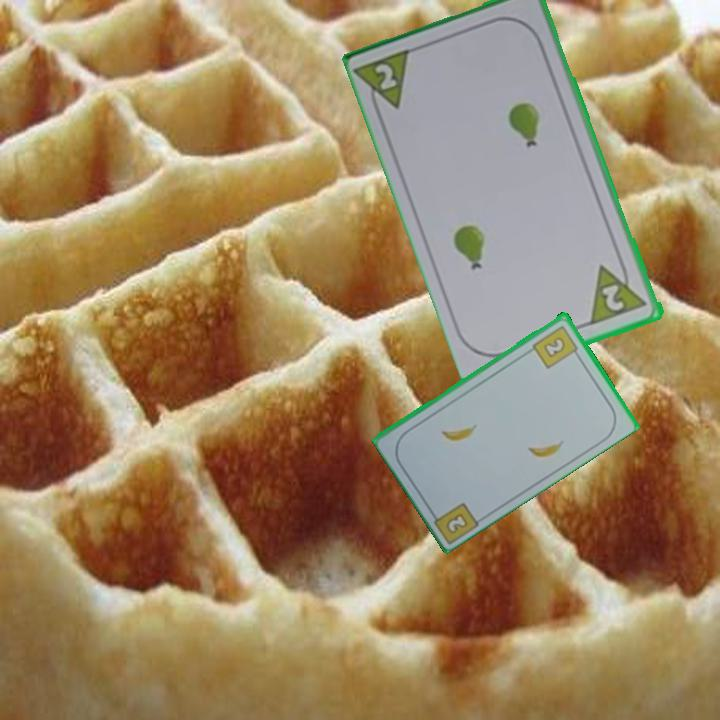2b: (529, 322, 582, 371), (443, 509, 471, 536)
2p: (354, 44, 418, 121), (587, 255, 651, 328)
